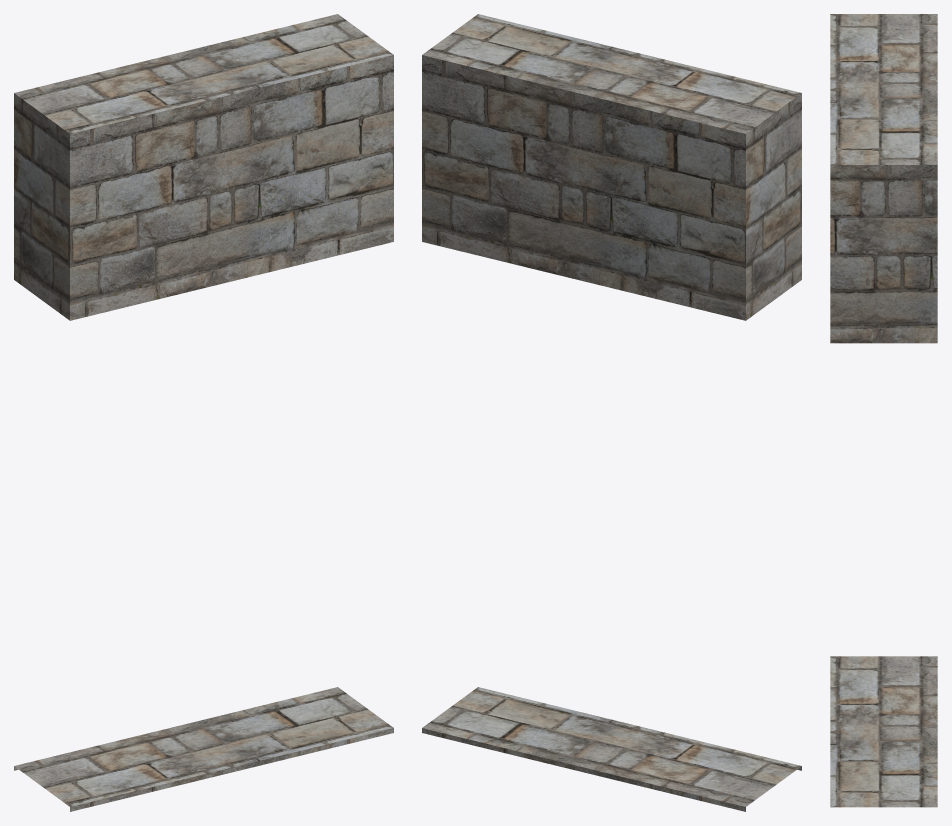
File: DoorSetting.obj
3 renders of one model, left to right at view 1: azimuth 30°, elevation 25°; view 2: azimuth 150°, elevation 25°; view 3: azimuth 270°, elevation 25°, orthographic. The views are drawn at different scales.
Bounding box in the file's own units: 100 × 200 × 30.
1 material, 1 textured.
